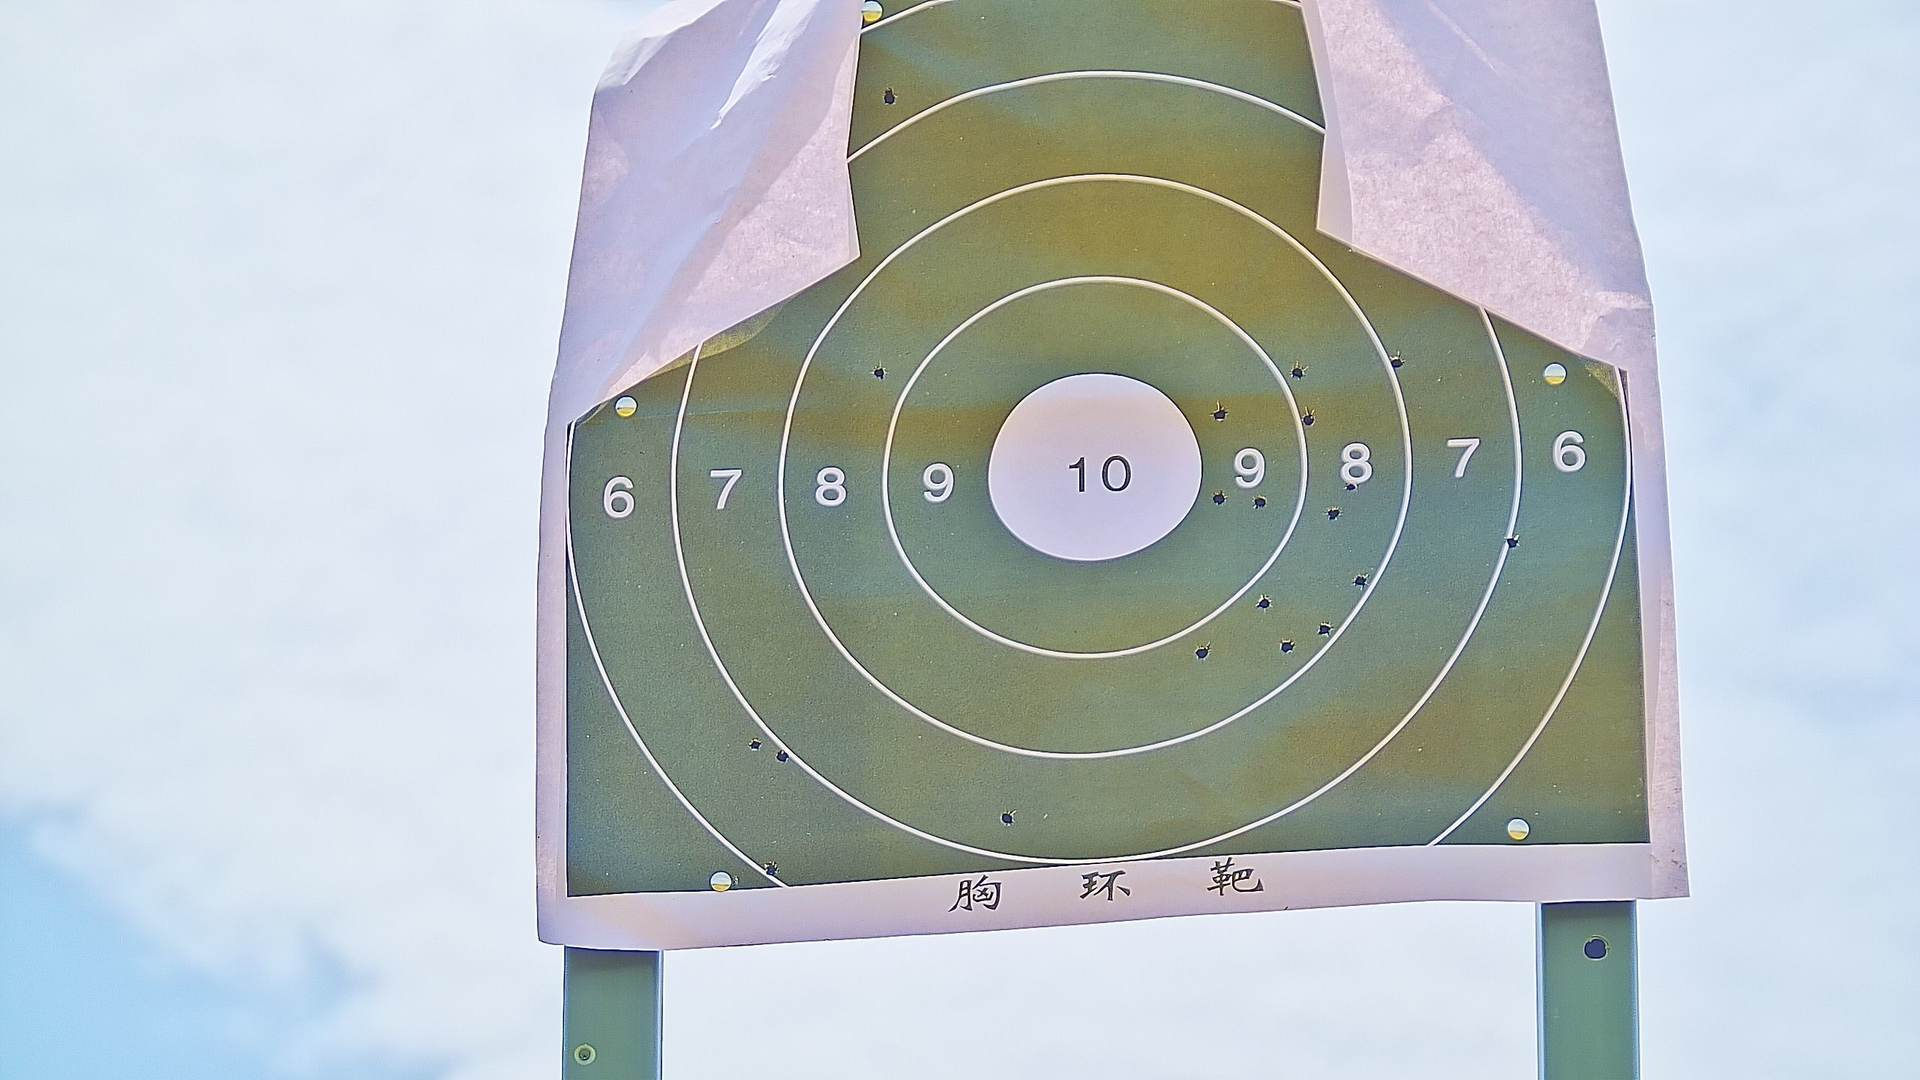hole: (1323, 501, 1341, 520), (1211, 407, 1229, 425), (1389, 355, 1404, 375), (1276, 638, 1294, 655), (1291, 364, 1307, 382), (773, 749, 789, 766), (1000, 810, 1015, 827), (1300, 409, 1315, 427), (1317, 618, 1331, 638), (870, 363, 887, 377), (1354, 574, 1369, 591), (1211, 488, 1224, 506), (1506, 534, 1520, 549), (880, 88, 895, 102), (1257, 593, 1270, 609), (1193, 647, 1211, 659), (766, 861, 781, 874), (748, 738, 761, 752), (1344, 480, 1357, 493), (1253, 492, 1265, 506)
kernel: (1091, 473, 1098, 483)
target: (563, 1, 1654, 895)
ten: (986, 371, 1204, 560)
